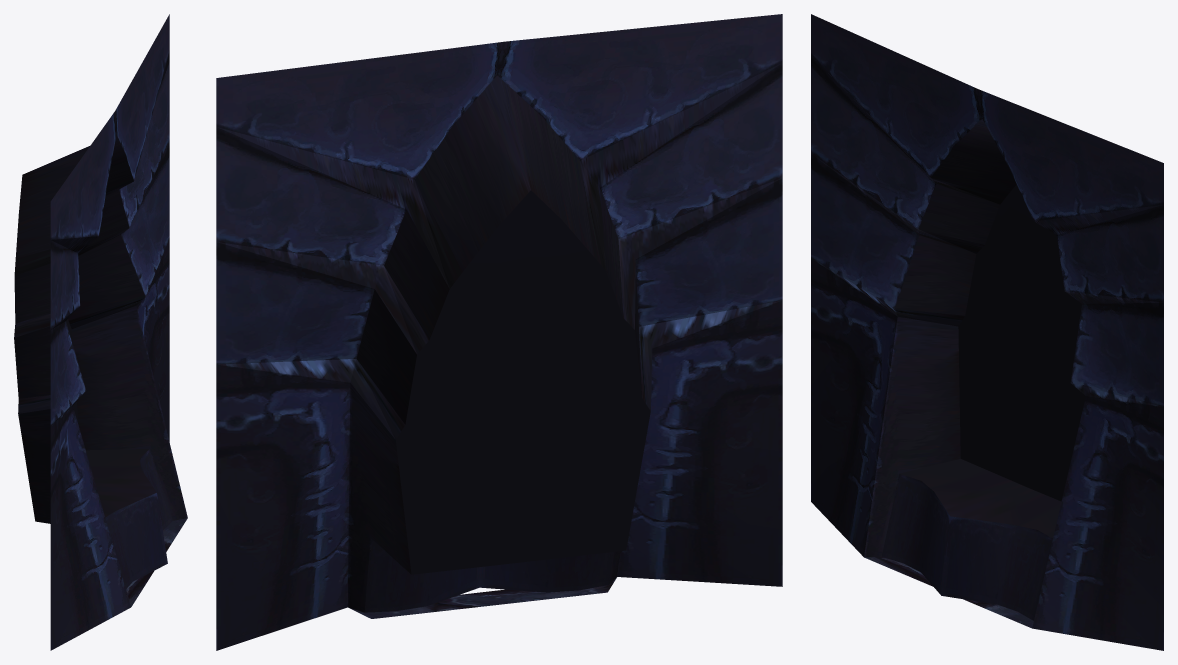
The model's file is palace_wall_diagonal_05.fbx.
3 renders of one model, left to right at view 1: azimuth 30°, elevation 25°; view 2: azimuth 150°, elevation 25°; view 3: azimuth 270°, elevation 25°, orthographic. The views are drawn at different scales.
Visible parts, largest first — view 1: palace_wall_diagonal_05-0; view 2: palace_wall_diagonal_05-0; view 3: palace_wall_diagonal_05-0.
Part boxes in pixels (<box>): palace_wall_diagonal_05-0: <box>14,14,187,650</box>; palace_wall_diagonal_05-0: <box>216,14,782,650</box>; palace_wall_diagonal_05-0: <box>811,14,1163,650</box>.
Bounding box in the file's own units: 3.61 × 5.5 × 3.61.
